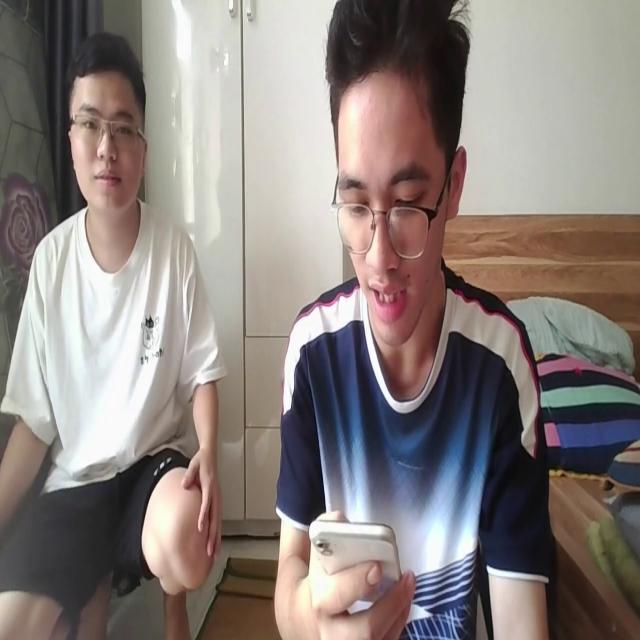extra_person: (1, 30, 223, 640)
phone: (305, 517, 407, 609)
student: (275, 0, 542, 640)
